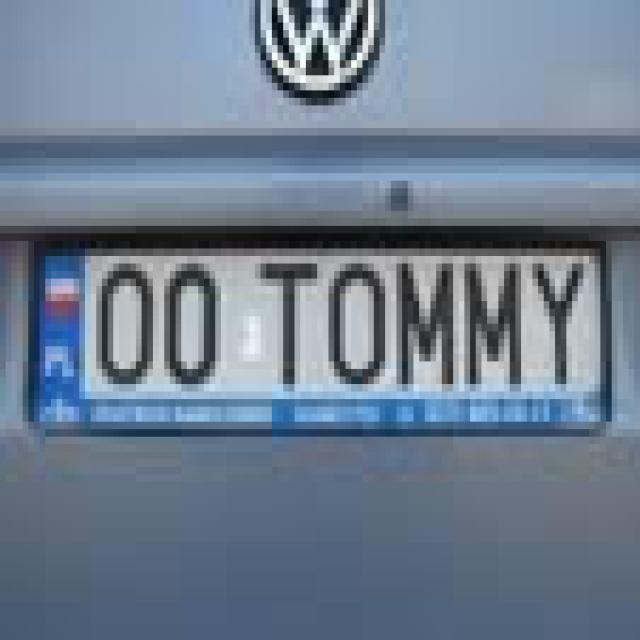pl_license_plate: (28, 241, 595, 384)
